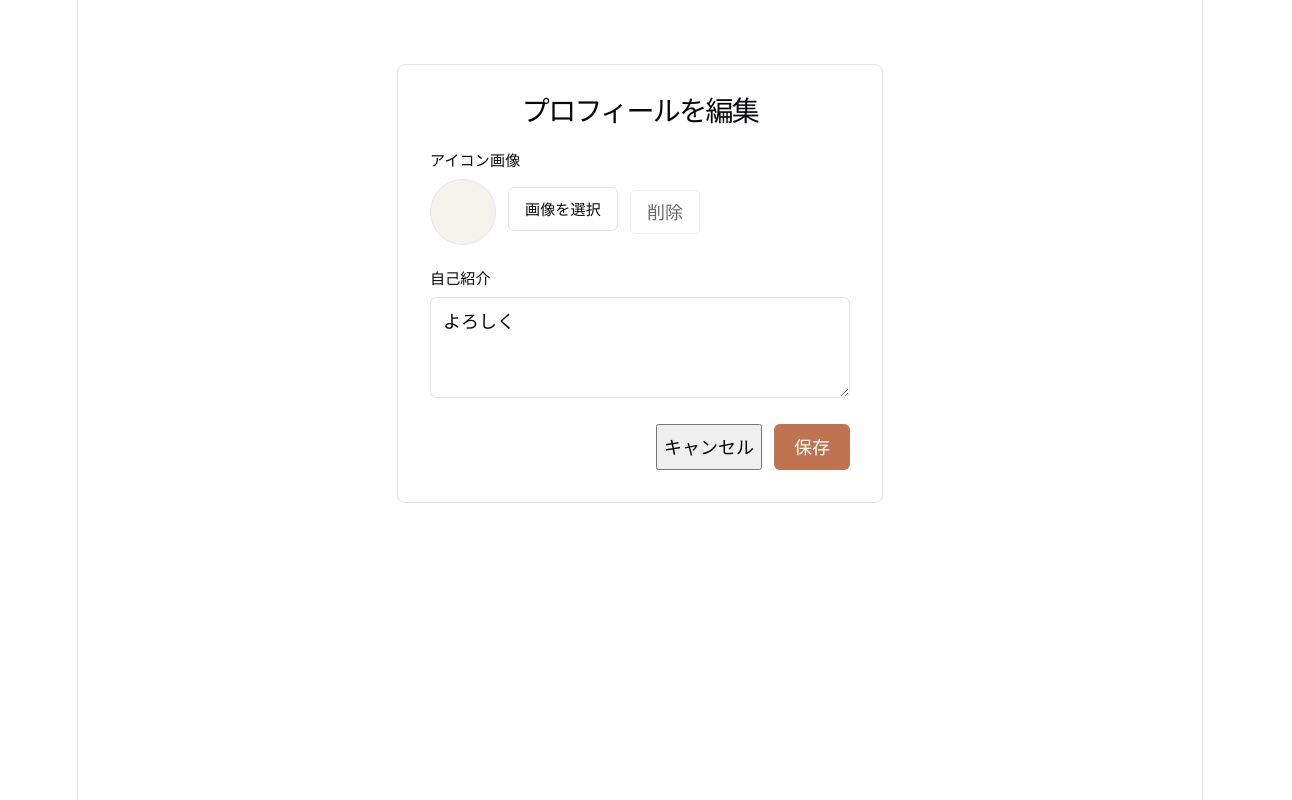
Test: ProfileEditView › 自己紹介が160文字を超える場合はエラーを表示し画面遷移しない
Expected: the text box with test id "profile-edit-bio" is shown, [430, 297, 850, 398]
Click the button with test id "profile-edit-save" at (812, 447), box [774, 424, 850, 470]
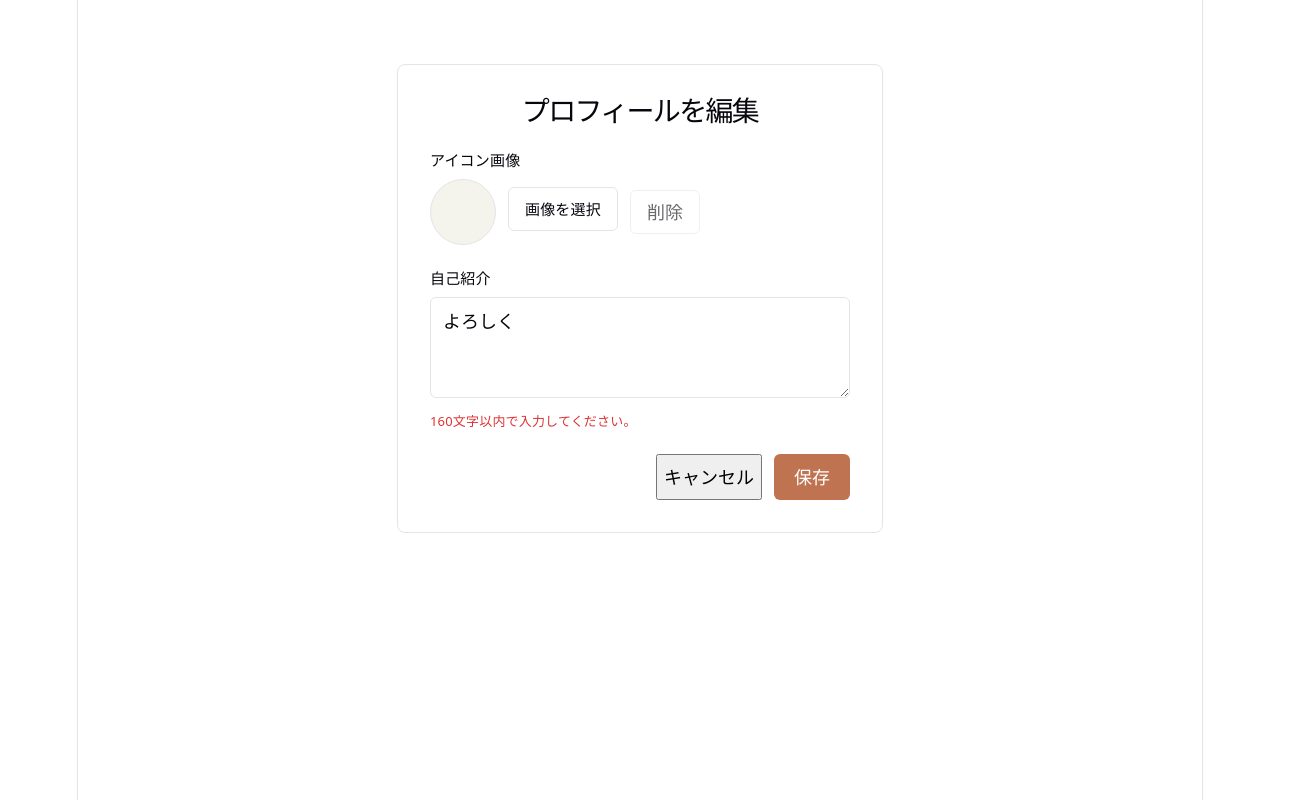
Expected: the text with test id "profile-edit-bio-error" reads "160文字以内で入力してください。", [430, 412, 637, 430]
